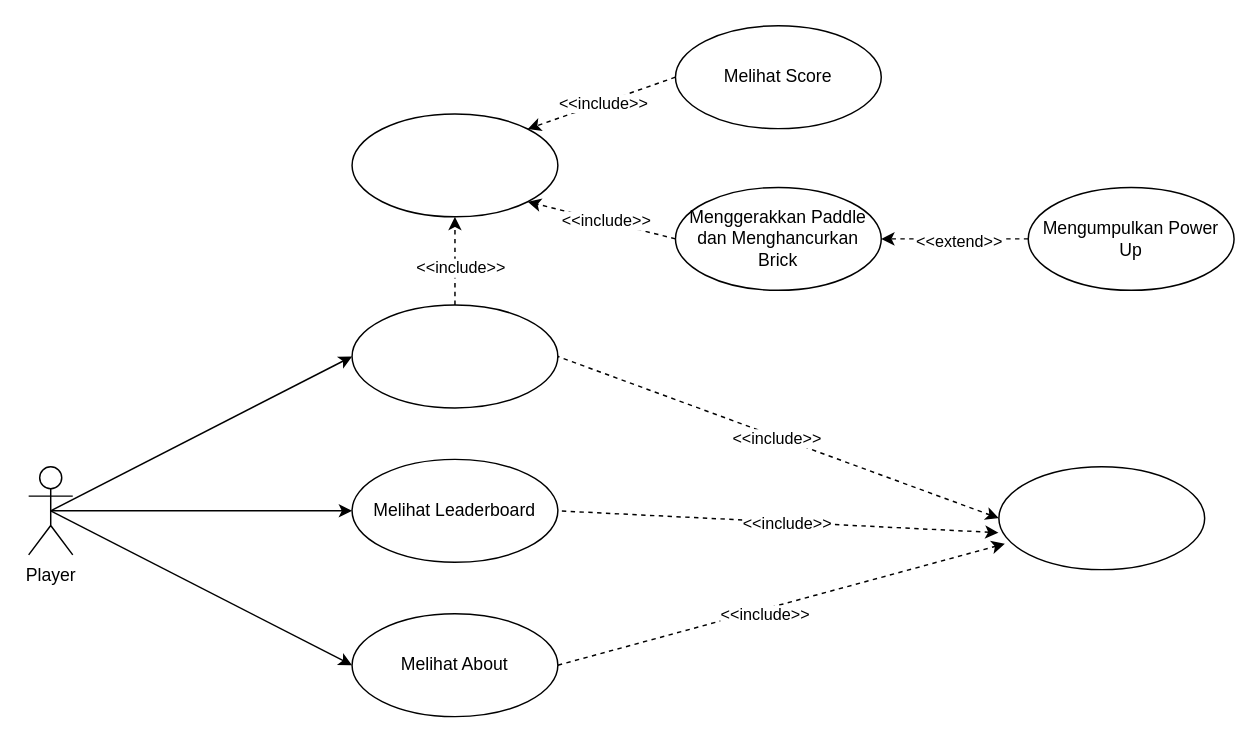
This 1260x742 diagram has some shape labels left out. Here are the shapes that lost their labels. From the top down, the centre of each, then its label:
At pixel 454 164: "Memasukkan Nama Player".
At pixel 454 356: "Memainkan Game".
At pixel 1101 517: "Melihat Menu".
